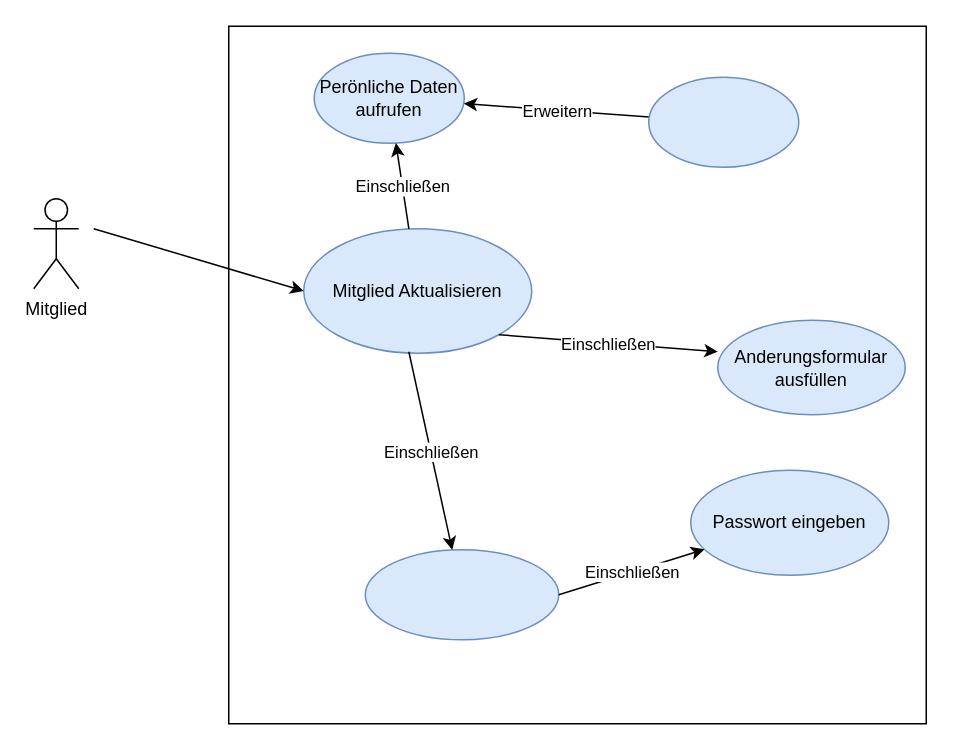
The diagram is 953 pixels wide and 750 high, and some of its shapes have lost their labels. The shapes that lost their labels are listed below. From the top down, each one's centre as x and y in pixels, then its label:
At [723,121]: "Einloggen".
At [461,594]: "Änderungsformular abschiken".
